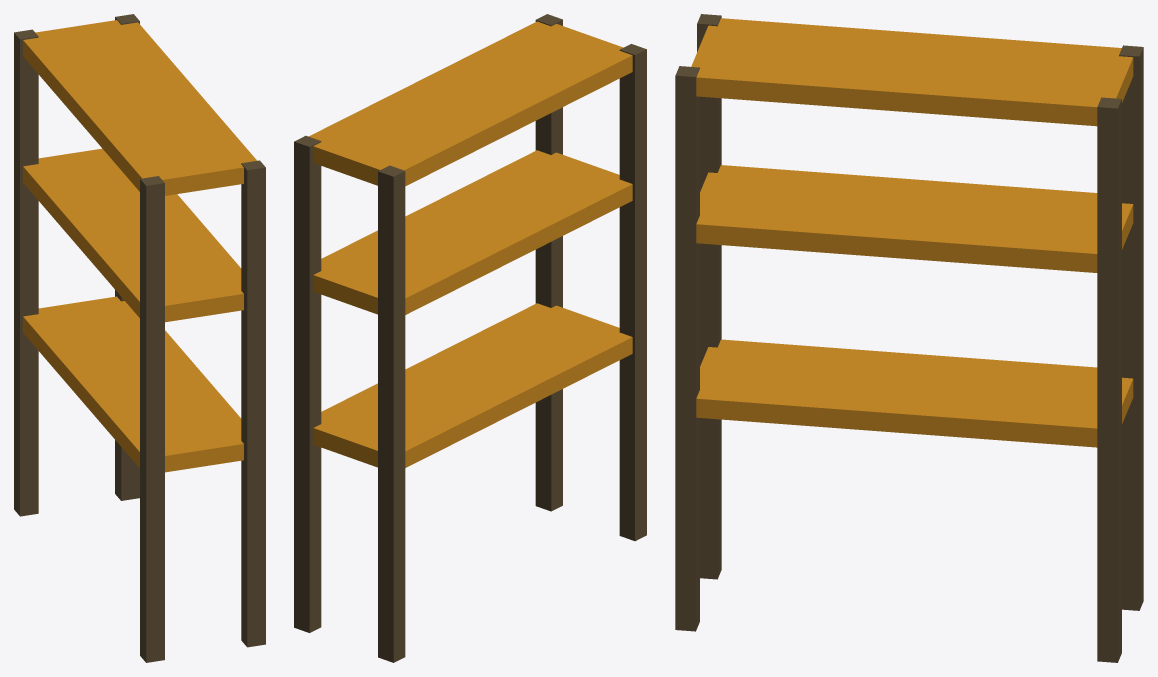
File: shelf.fbx
3 renders of one model, left to right at view 1: azimuth 30°, elevation 25°; view 2: azimuth 150°, elevation 25°; view 3: azimuth 270°, elevation 25°, orthographic. The views are drawn at different scales.
Visible parts, largest first — view 1: Box023, Box029; view 2: Box023, Box029; view 3: Box023, Box029.
Part boxes in pixels (x1=…): Box023: x1=23, y1=20, x2=256, y2=472; Box029: x1=14, y1=14, x2=265, y2=662; Box023: x1=309, y1=21, x2=632, y2=467; Box029: x1=294, y1=14, x2=646, y2=662; Box023: x1=691, y1=18, x2=1133, y2=447; Box029: x1=675, y1=14, x2=1143, y2=662.
Size of the model in its own units: 41.63 by 114 by 87.07.
